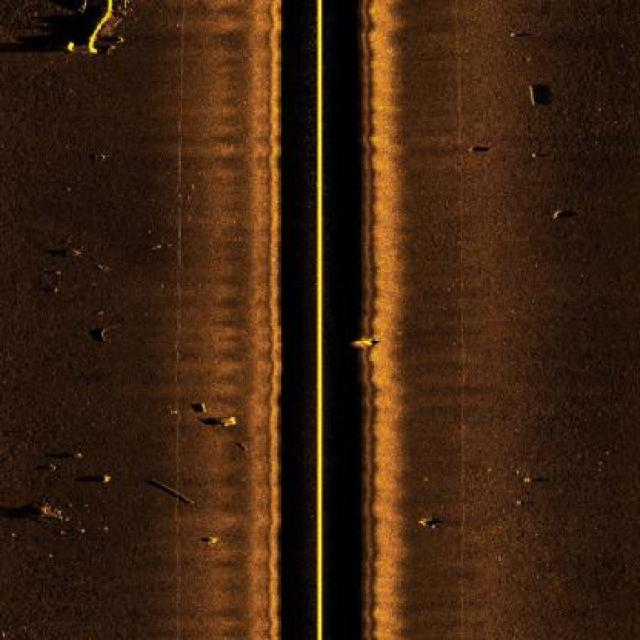mine: (524, 82, 556, 110), (458, 138, 482, 160), (357, 330, 374, 350), (188, 400, 209, 414), (233, 439, 250, 453)
other: (48, 0, 140, 49), (139, 476, 198, 507), (205, 414, 238, 428)
